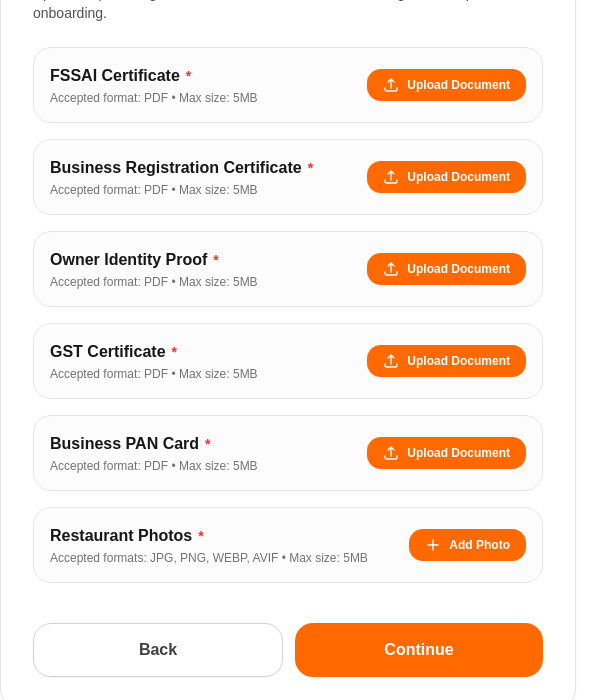
DocumentsPage › shows validation error if Continue is clicked without required uploads
The image size is (593, 700).
(page scrolled)
Click the button "Continue" at x=419, y=650, box 295,623 -> 543,677
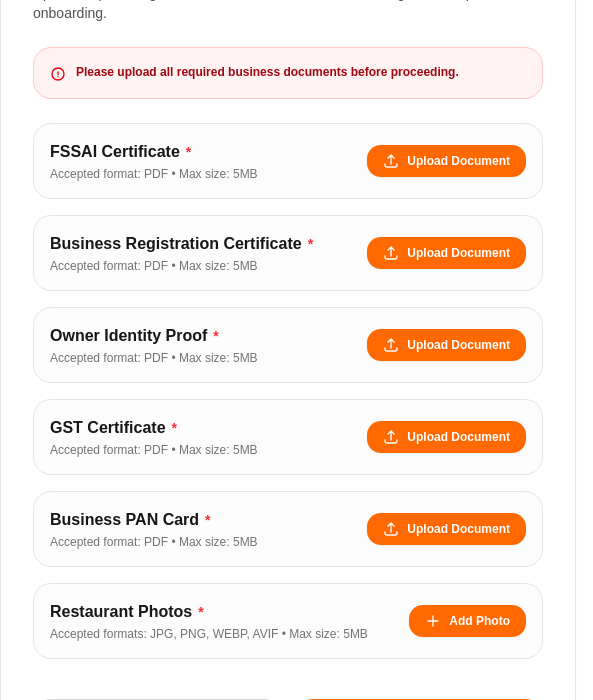
Expected: the text "Please upload all required business documents before proceeding" is shown, 76,65 -> 459,79
